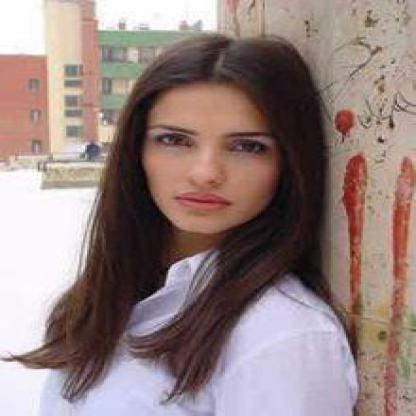long-hair: (53, 236, 331, 282)
